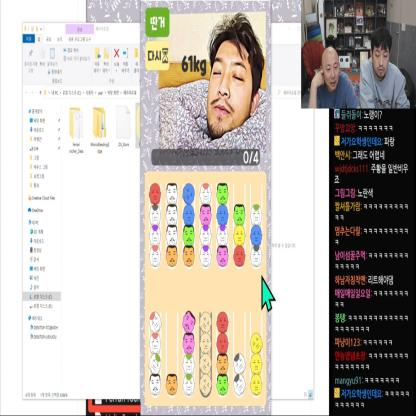streamer: (360, 27, 410, 108), (308, 47, 360, 108)
